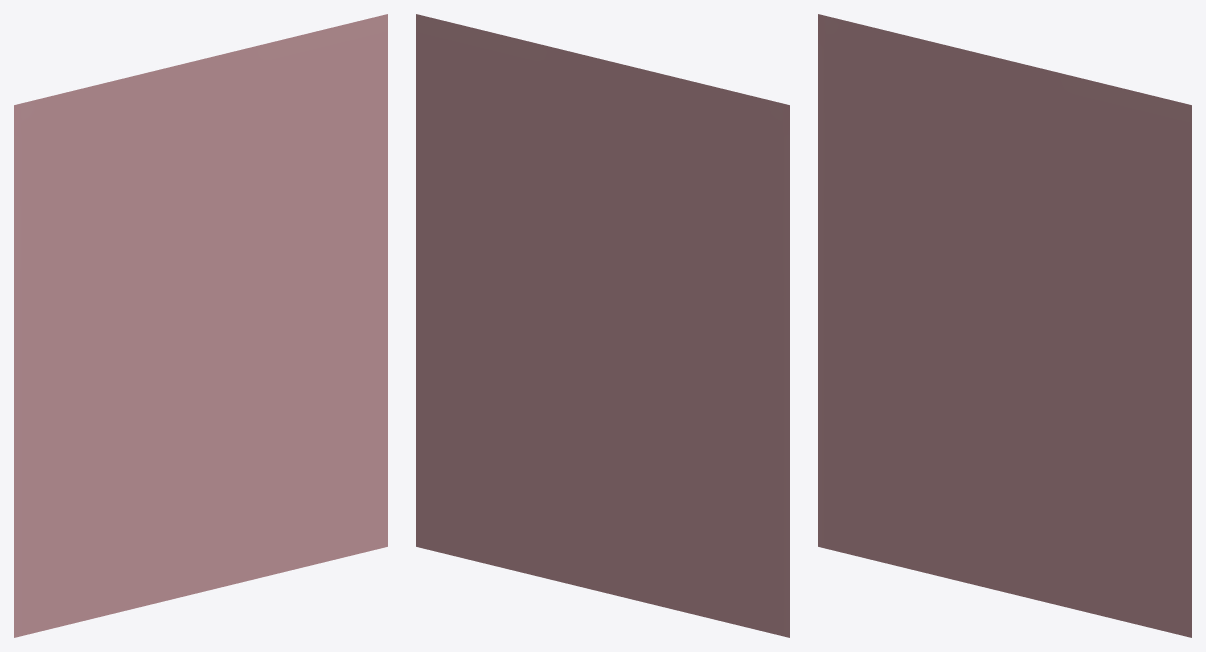
Rendered from SM_Curtains_001.fbx.
3 views of the same model, side by side, from view 1: azimuth 30°, elevation 25°; view 2: azimuth 150°, elevation 25°; view 3: azimuth 330°, elevation 25° (orthographic).
Parts seen in each view (by area): view 1: SM_Curtains_001; view 2: SM_Curtains_001; view 3: SM_Curtains_001.
Part boxes in pixels (x1=…): SM_Curtains_001: x1=14, y1=14, x2=387, y2=637; SM_Curtains_001: x1=416, y1=14, x2=789, y2=637; SM_Curtains_001: x1=818, y1=14, x2=1191, y2=637.
Bounding box in the file's own units: 89.97 × 123 × 0.
